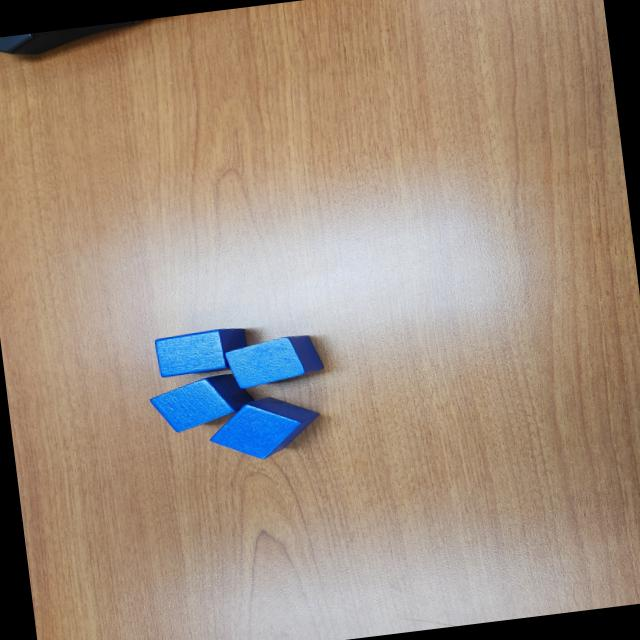blue: (206, 390, 325, 466), (146, 370, 258, 435), (221, 333, 326, 391), (152, 324, 254, 378)
